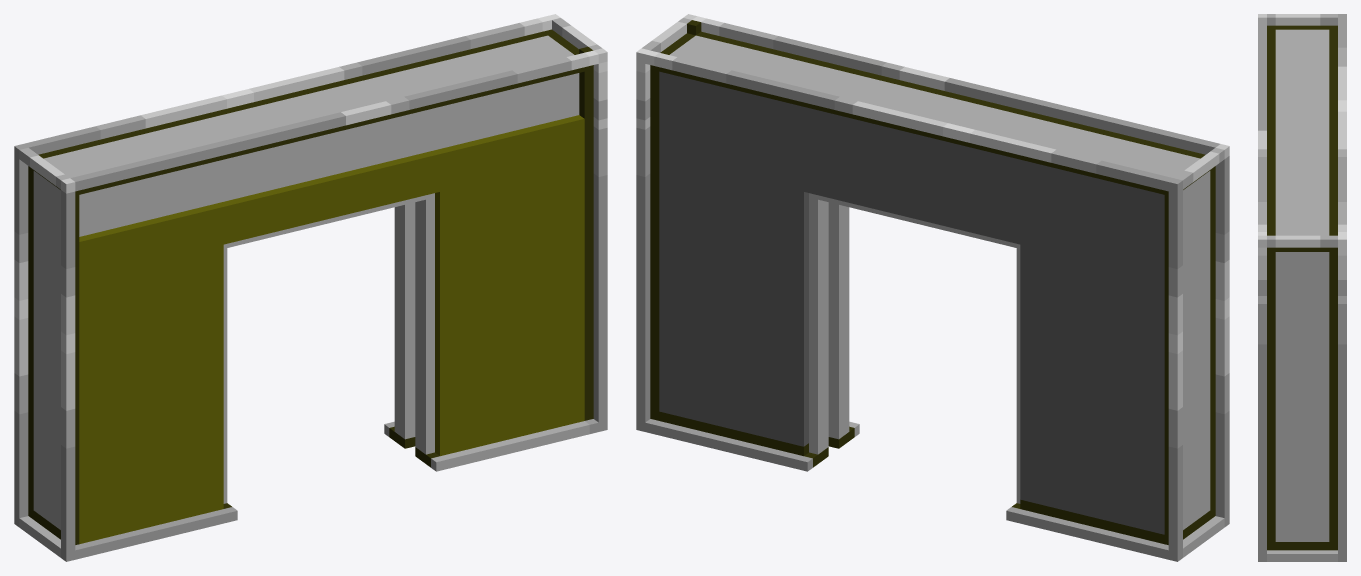
Rendered from Barraks Doorway.obj.
3 renders of one model, left to right at view 1: azimuth 30°, elevation 25°; view 2: azimuth 150°, elevation 25°; view 3: azimuth 270°, elevation 25°, orthographic. The views are drawn at different scales.
Bounding box in the file's own units: 60 × 40 × 10.
1 material, 1 textured.
